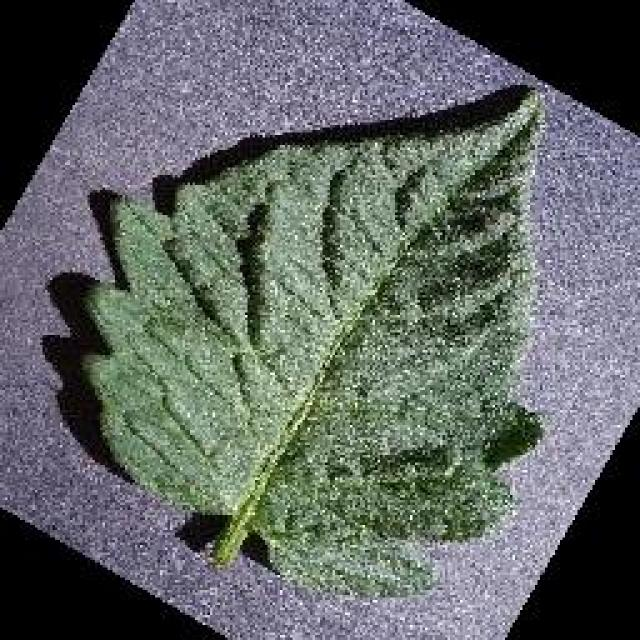Tomato___healthy: (74, 86, 553, 597)
